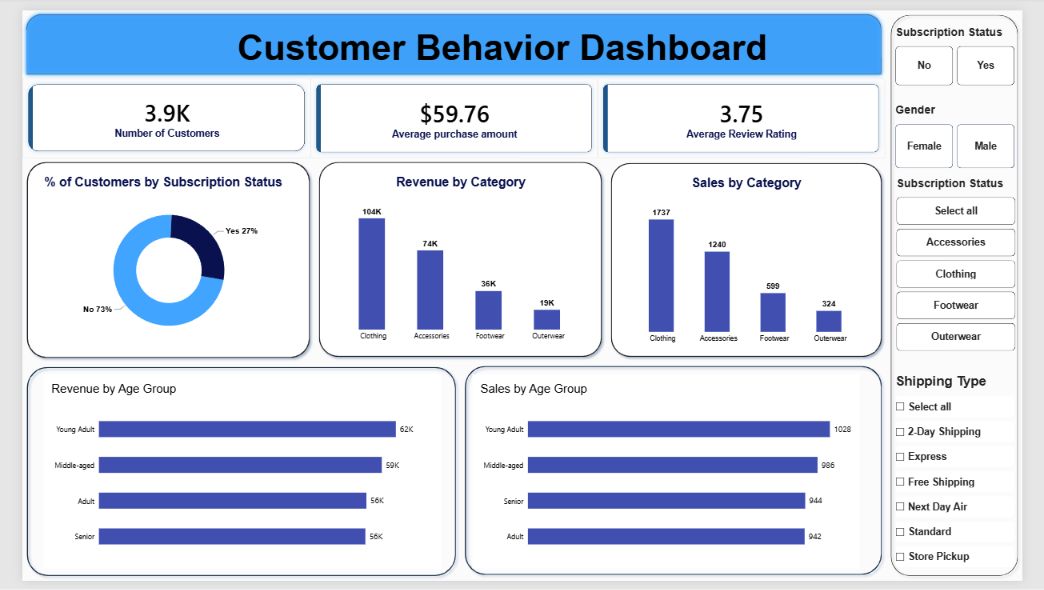

What the dashboard file says about the page in this screenshot:
{"tool":"powerbi","page":{"name":"Page 1","canvas":[2000,1141],"ordinal":0},"visuals":[{"type":"cardVisual","fields":{"Data":["public customer.Number of Customers"]},"box":[0,136,577.2,158.8],"z":0},{"type":"cardVisual","fields":{"Data":["public customer.Average purchase amount"]},"box":[575.3,136,575.3,160],"z":1000},{"type":"shape","box":[0,0,1726,136],"z":2000},{"type":"cardVisual","fields":{"Data":["public customer.Average Review Rating"]},"box":[1150,135.6,575.6,160],"z":3000},{"type":"textbox","box":[0,34,1920,116],"z":4000},{"type":"shape","box":[0,294,584,410],"z":5000},{"type":"donutChart","title":"% of Customers by  Subscription Status","fields":{"Category":["public customer.subscription_status"],"Y":["CountNonNull(public customer.customer_id)"]},"box":[28,314,530,368],"z":6000},{"type":"shape","box":[584,294,584,408],"z":7000},{"type":"shape","box":[1168,296,560,406],"z":8000},{"type":"clusteredColumnChart","title":"Revenue by Category","fields":{"Y":["Sum(public customer.purchased_amount)"],"Category":["public customer.category"]},"box":[610,314,534,368],"z":9000},{"type":"clusteredColumnChart","title":"Sales by Category","fields":{"Category":["public customer.category"],"Y":["CountNonNull(public customer.customer_id)"]},"box":[1192.5,315,512.5,367.5],"z":10000},{"type":"shape","box":[1728,0,272,1140],"z":11000},{"type":"advancedSlicerVisual","title":"Subscription Status","fields":{"Values":["public customer.subscription_status"]},"box":[1746,30,238,120],"z":12000},{"type":"advancedSlicerVisual","title":"Gender","fields":{"Values":["public customer.gender"]},"box":[1746,186,238,130],"z":13000},{"type":"advancedSlicerVisual","title":"Subscription Status","fields":{"Values":["public customer.category"]},"box":[1748,332,238,352],"z":14000},{"type":"listSlicer","fields":{"Values":["public customer.shipping_type"]},"box":[1746,726,238,388],"z":15000},{"type":"clusteredBarChart","title":"Revenue by Age Group","fields":{"Y":["Sum(public customer.purchased_amount)"],"Category":["public customer.age_group"]},"box":[42,728,796,388],"z":15001},{"type":"shape","box":[0,704,876,436],"z":15002},{"type":"shape","box":[876,702,852,436],"z":15003},{"type":"clusteredBarChart","title":"Sales by Age Group","fields":{"Y":["CountNonNull(public customer.customer_id)"],"Category":["public customer.age_group"]},"box":[900,728,774,388],"z":15004}]}

Visuals, with their boxes in screenshot pixels (x1, y1, x2, y2), scaled from the page's 2000x1141 canvas onto the 1044x590 screenshot:
cardVisual - public customer.Number of Customers: 0, 70, 301, 152
cardVisual - public customer.Average purchase amount: 300, 70, 601, 153
shape: 0, 0, 901, 70
cardVisual - public customer.Average Review Rating: 600, 70, 901, 153
textbox: 0, 18, 1002, 78
shape: 0, 152, 305, 364
"% of Customers by  Subscription Status" donutChart: 15, 162, 291, 353
shape: 305, 152, 610, 363
shape: 610, 153, 902, 363
"Revenue by Category" clusteredColumnChart: 318, 162, 597, 353
"Sales by Category" clusteredColumnChart: 622, 163, 890, 353
shape: 902, 0, 1043, 589
"Subscription Status" advancedSlicerVisual: 911, 16, 1036, 78
"Gender" advancedSlicerVisual: 911, 96, 1036, 163
"Subscription Status" advancedSlicerVisual: 912, 172, 1037, 354
listSlicer - public customer.shipping_type: 911, 375, 1036, 576
"Revenue by Age Group" clusteredBarChart: 22, 376, 437, 577
shape: 0, 364, 457, 589
shape: 457, 363, 902, 588
"Sales by Age Group" clusteredBarChart: 470, 376, 874, 577
